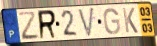2: (60, 9, 79, 39)
G: (102, 7, 122, 36)
K: (121, 7, 140, 34)
R: (37, 9, 59, 42)
V: (77, 6, 96, 39)
Z: (17, 10, 41, 42)
